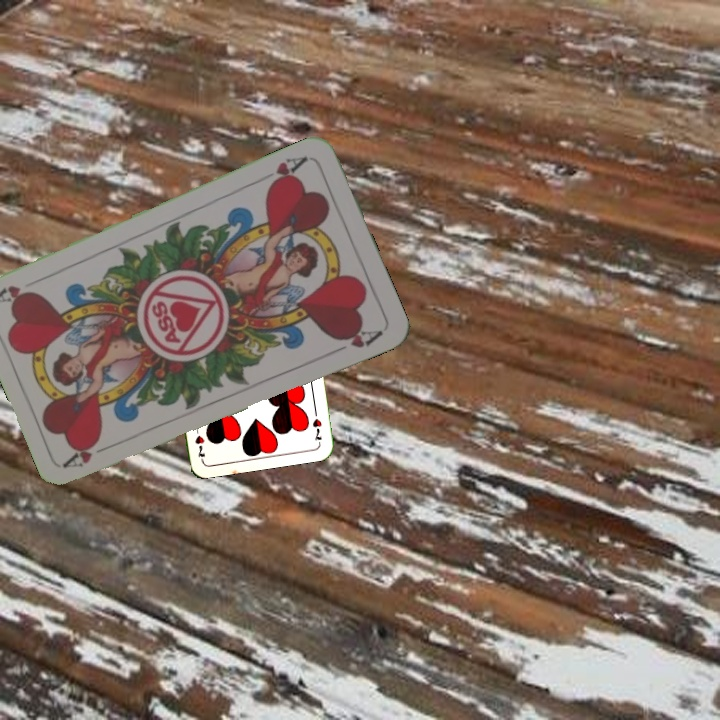H7: (308, 404, 325, 445)
HA: (61, 434, 118, 471), (264, 152, 311, 191)
